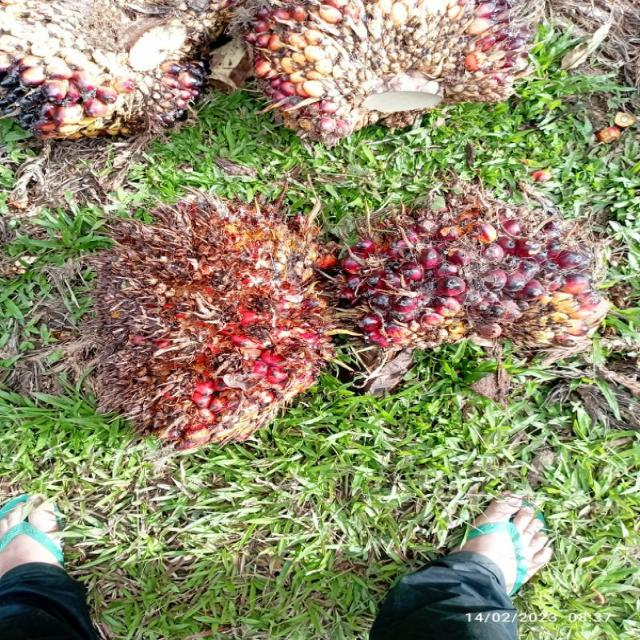fraksi 1: (324, 176, 624, 427)
fraksi 4: (54, 180, 336, 450)
